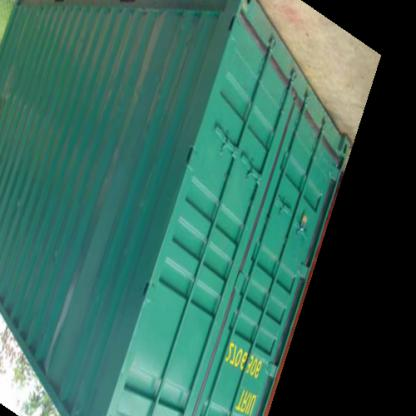Damage: (116, 0, 170, 158), (36, 271, 84, 381), (1, 67, 56, 123)
